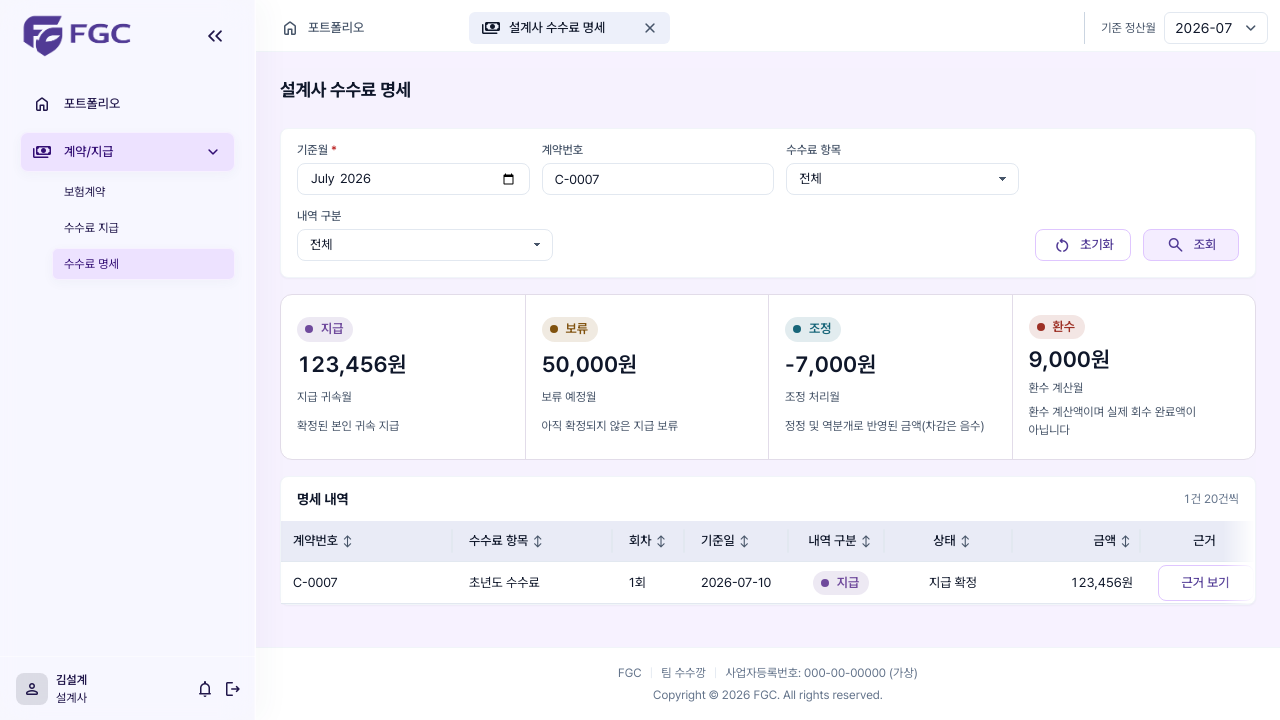
it: RPT-W02 설계사 수수료 명세 › 근거 보기로 상세를 열고 닫아도 조회 조건이 유지된다
Click the button with aria-label "C-0007 근거 보기".
click(1206, 583)  # box x1=1158 y1=565 x2=1254 y2=601
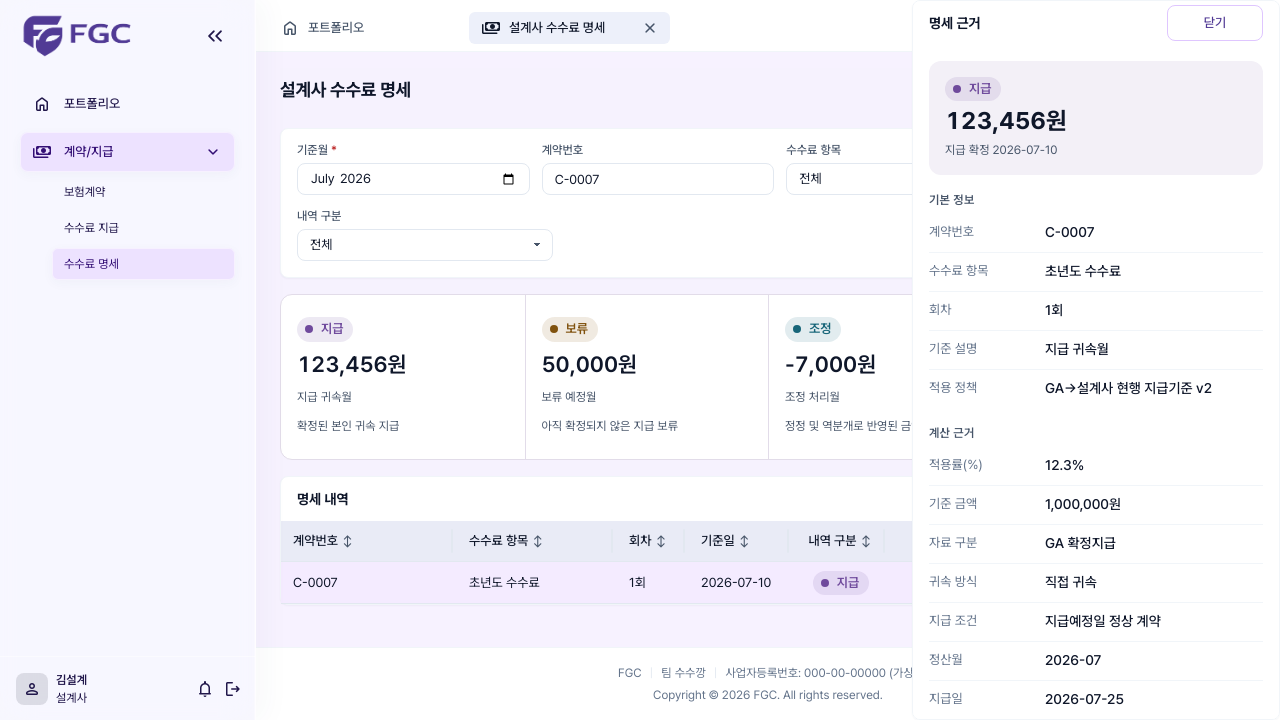
Expected: the text "지급 귀속월" next to "기준 설명" is shown, x1=1045 y1=341 x2=1109 y2=357
Expected: the text "12.3%" is shown, x1=1045 y1=457 x2=1084 y2=473
Expected: the text "GA 확정지급" is shown, x1=1045 y1=535 x2=1116 y2=551
Click the button "닫기".
click(1215, 23)  # box x1=1167 y1=5 x2=1263 y2=41
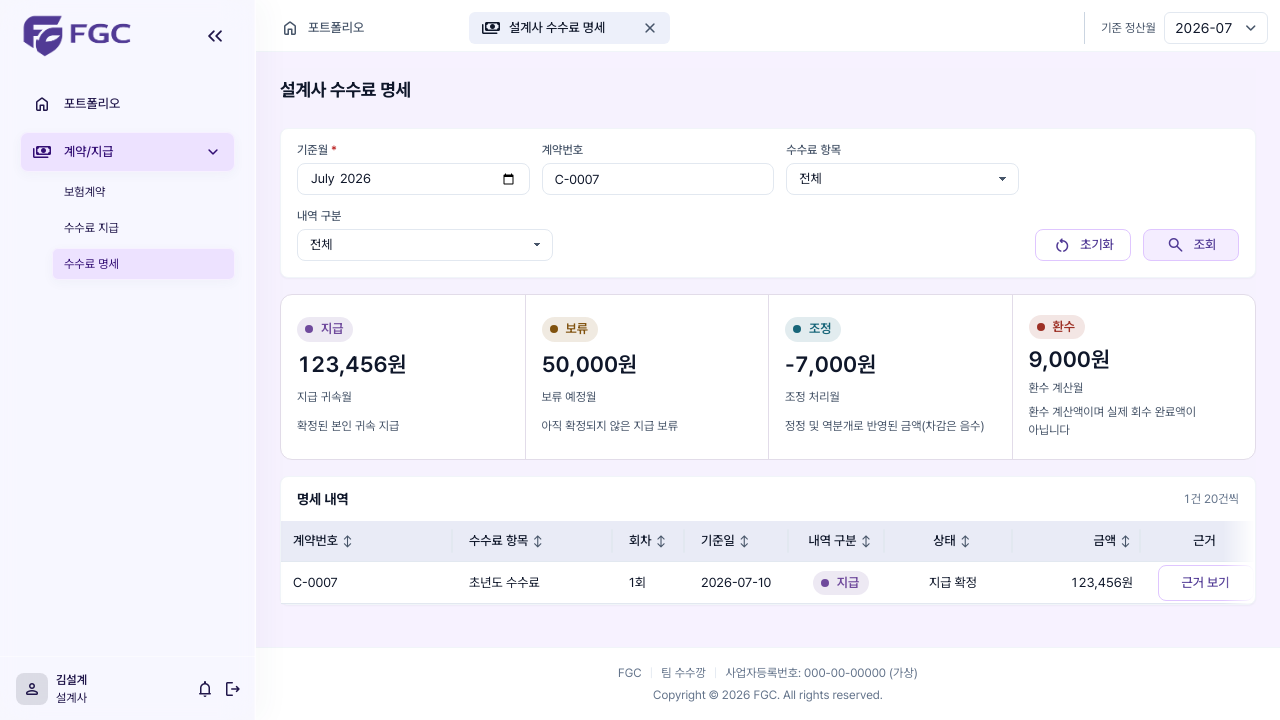
Expected: the heading "명세 근거" is gone
